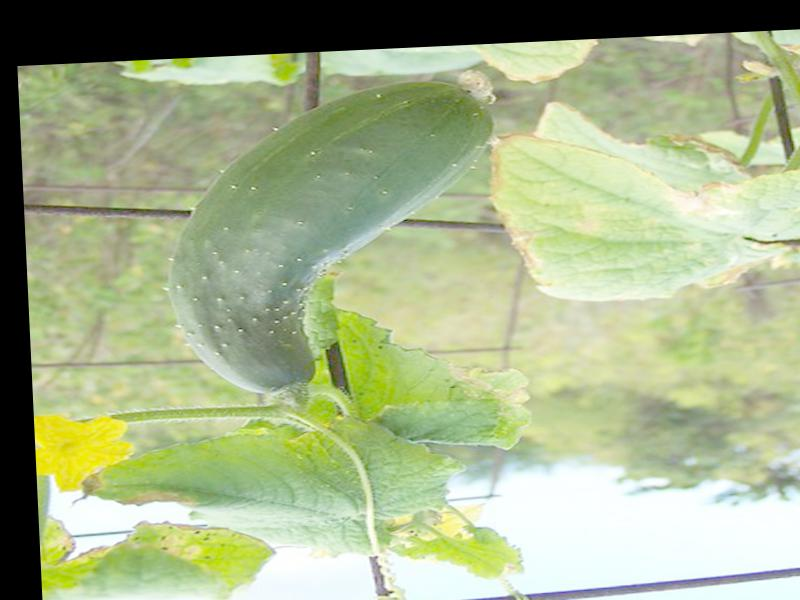Cucumber: (163, 76, 510, 401)
